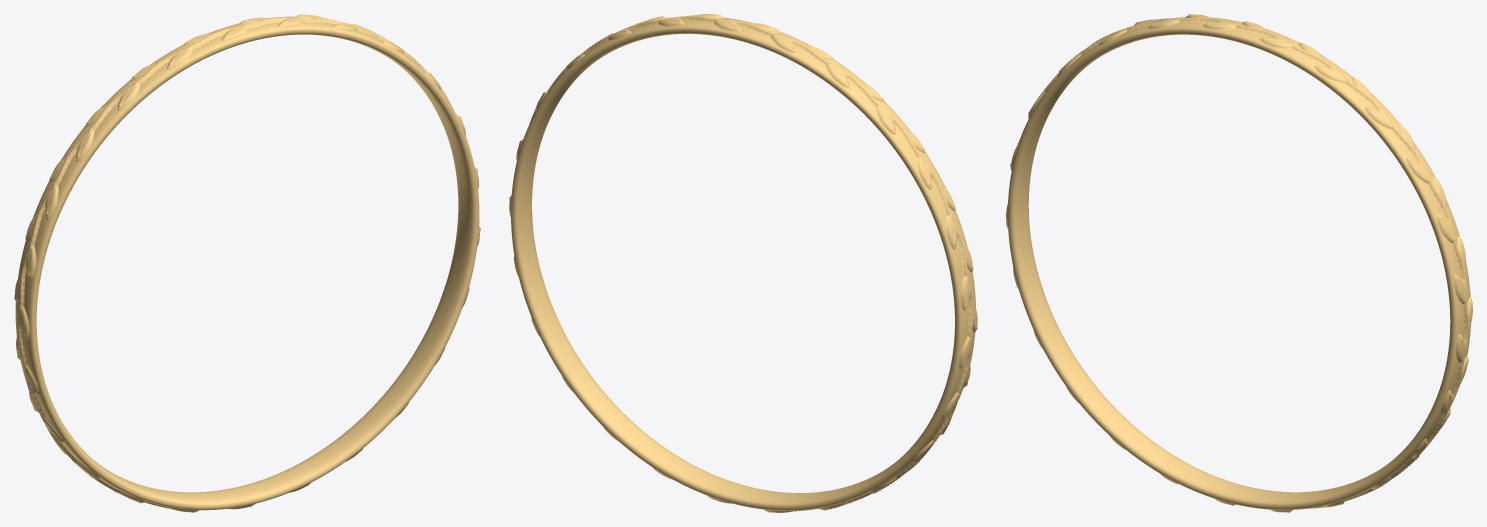
Rendered from bangle_leaf_vine.glb.
3 views of the same model, side by side, from view 1: azimuth 30°, elevation 25°; view 2: azimuth 150°, elevation 25°; view 3: azimuth 330°, elevation 25° (orthographic).
Parts seen in each view (by area): view 1: gold; view 2: gold; view 3: gold.
Part boxes in pixels (bbox=[...]): gold: bbox=[14, 14, 480, 512]; gold: bbox=[509, 14, 977, 512]; gold: bbox=[1006, 14, 1472, 512].
Size of the model in its own units: 0.064 by 0.064 by 0.004.
